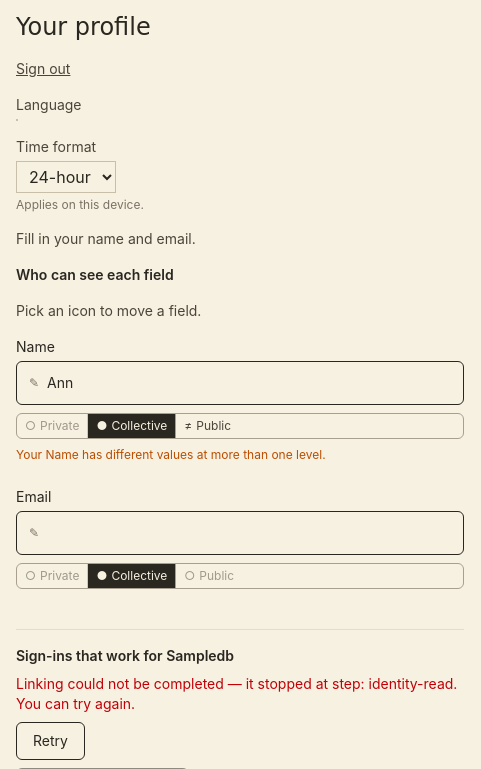
Test: /profile v2 — #131 conflict resolution (browse-then-confirm) › AC2: first tap on a conflicting tier previews its value + shows the "tap again" hint
Check: the element with test id "profile-field-name" is shown, box x1=16 y1=337 x2=464 y2=463
Click the button with test id "profile-vis-name-public" at [208, 426], box x1=176 y1=414 x2=239 y2=438
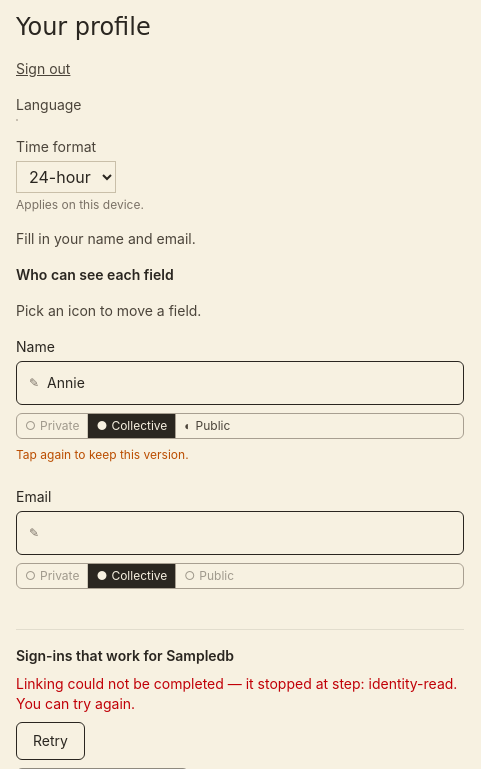
Check: the text "Annie" is shown, box x1=47 y1=374 x2=85 y2=391
Check: the text "Tap again to keep this version." is shown, box x1=16 y1=447 x2=189 y2=462
Check: the text "◐" is shown, box x1=184 y1=418 x2=192 y2=434
